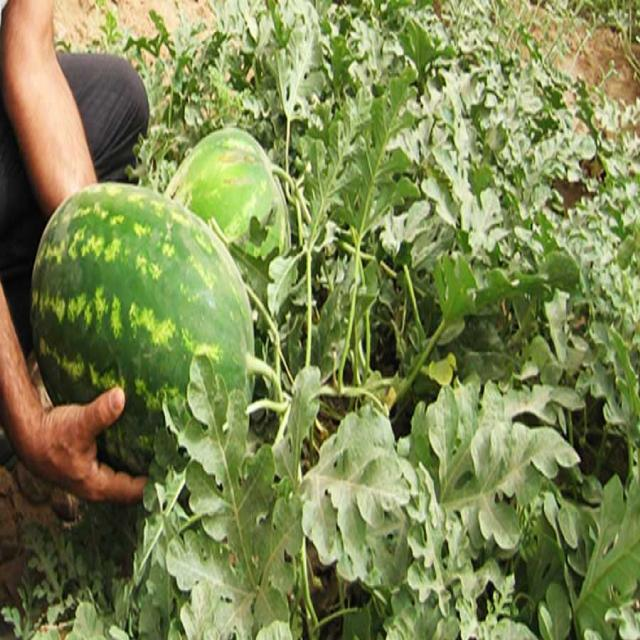watermelon: (31, 180, 256, 484), (165, 129, 292, 288)
